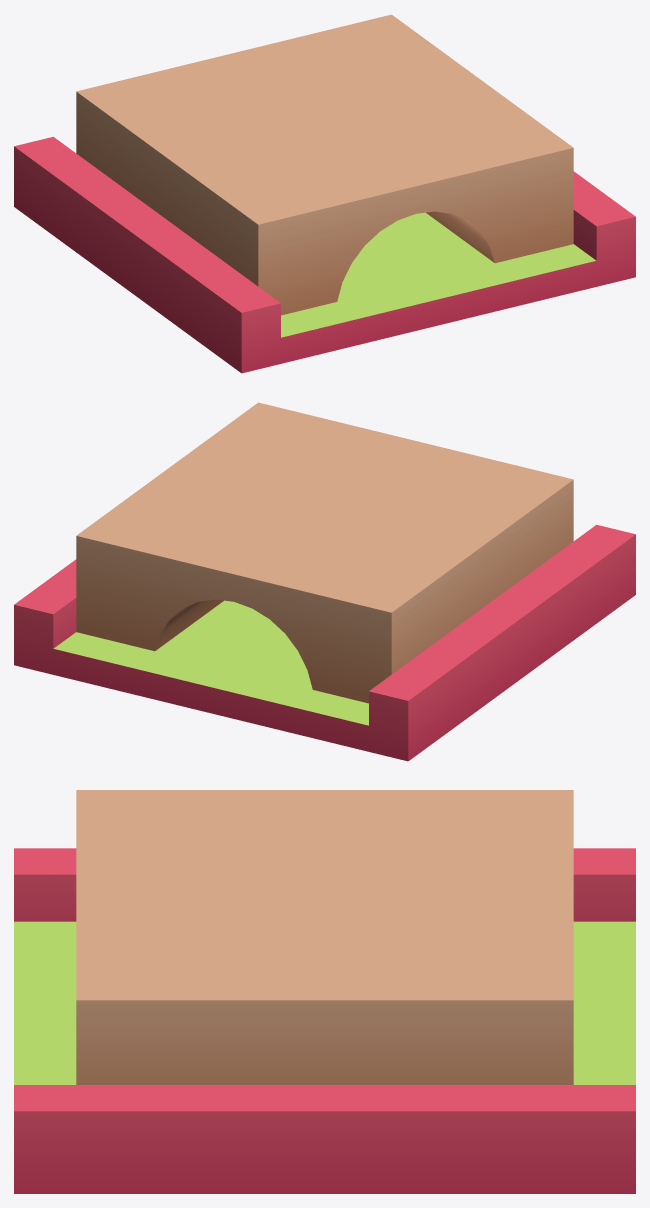
The model's file is tunnel-wide.fbx.
3 views of the same model, one above another, from view 1: azimuth 30°, elevation 25°; view 2: azimuth 150°, elevation 25°; view 3: azimuth 270°, elevation 25° (orthographic). The views are drawn at different scales.
Parts seen in each view (by area): view 1: tunnel_wide; view 2: tunnel_wide; view 3: tunnel_wide.
Boxes of the visible parts, x1=… form: tunnel_wide: x1=14, y1=14, x2=635, y2=373; tunnel_wide: x1=14, y1=402, x2=635, y2=761; tunnel_wide: x1=14, y1=790, x2=635, y2=1193.
Size of the model in its own units: 99.99 by 29.66 by 99.99.
